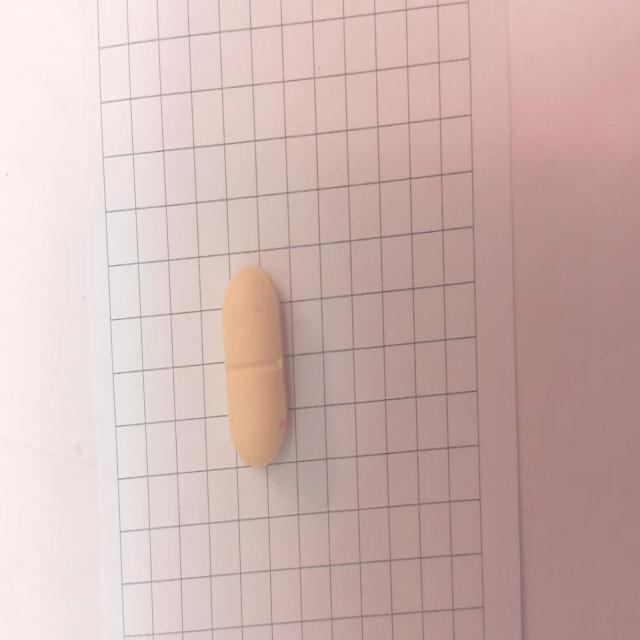pill: (220, 263, 290, 472)
